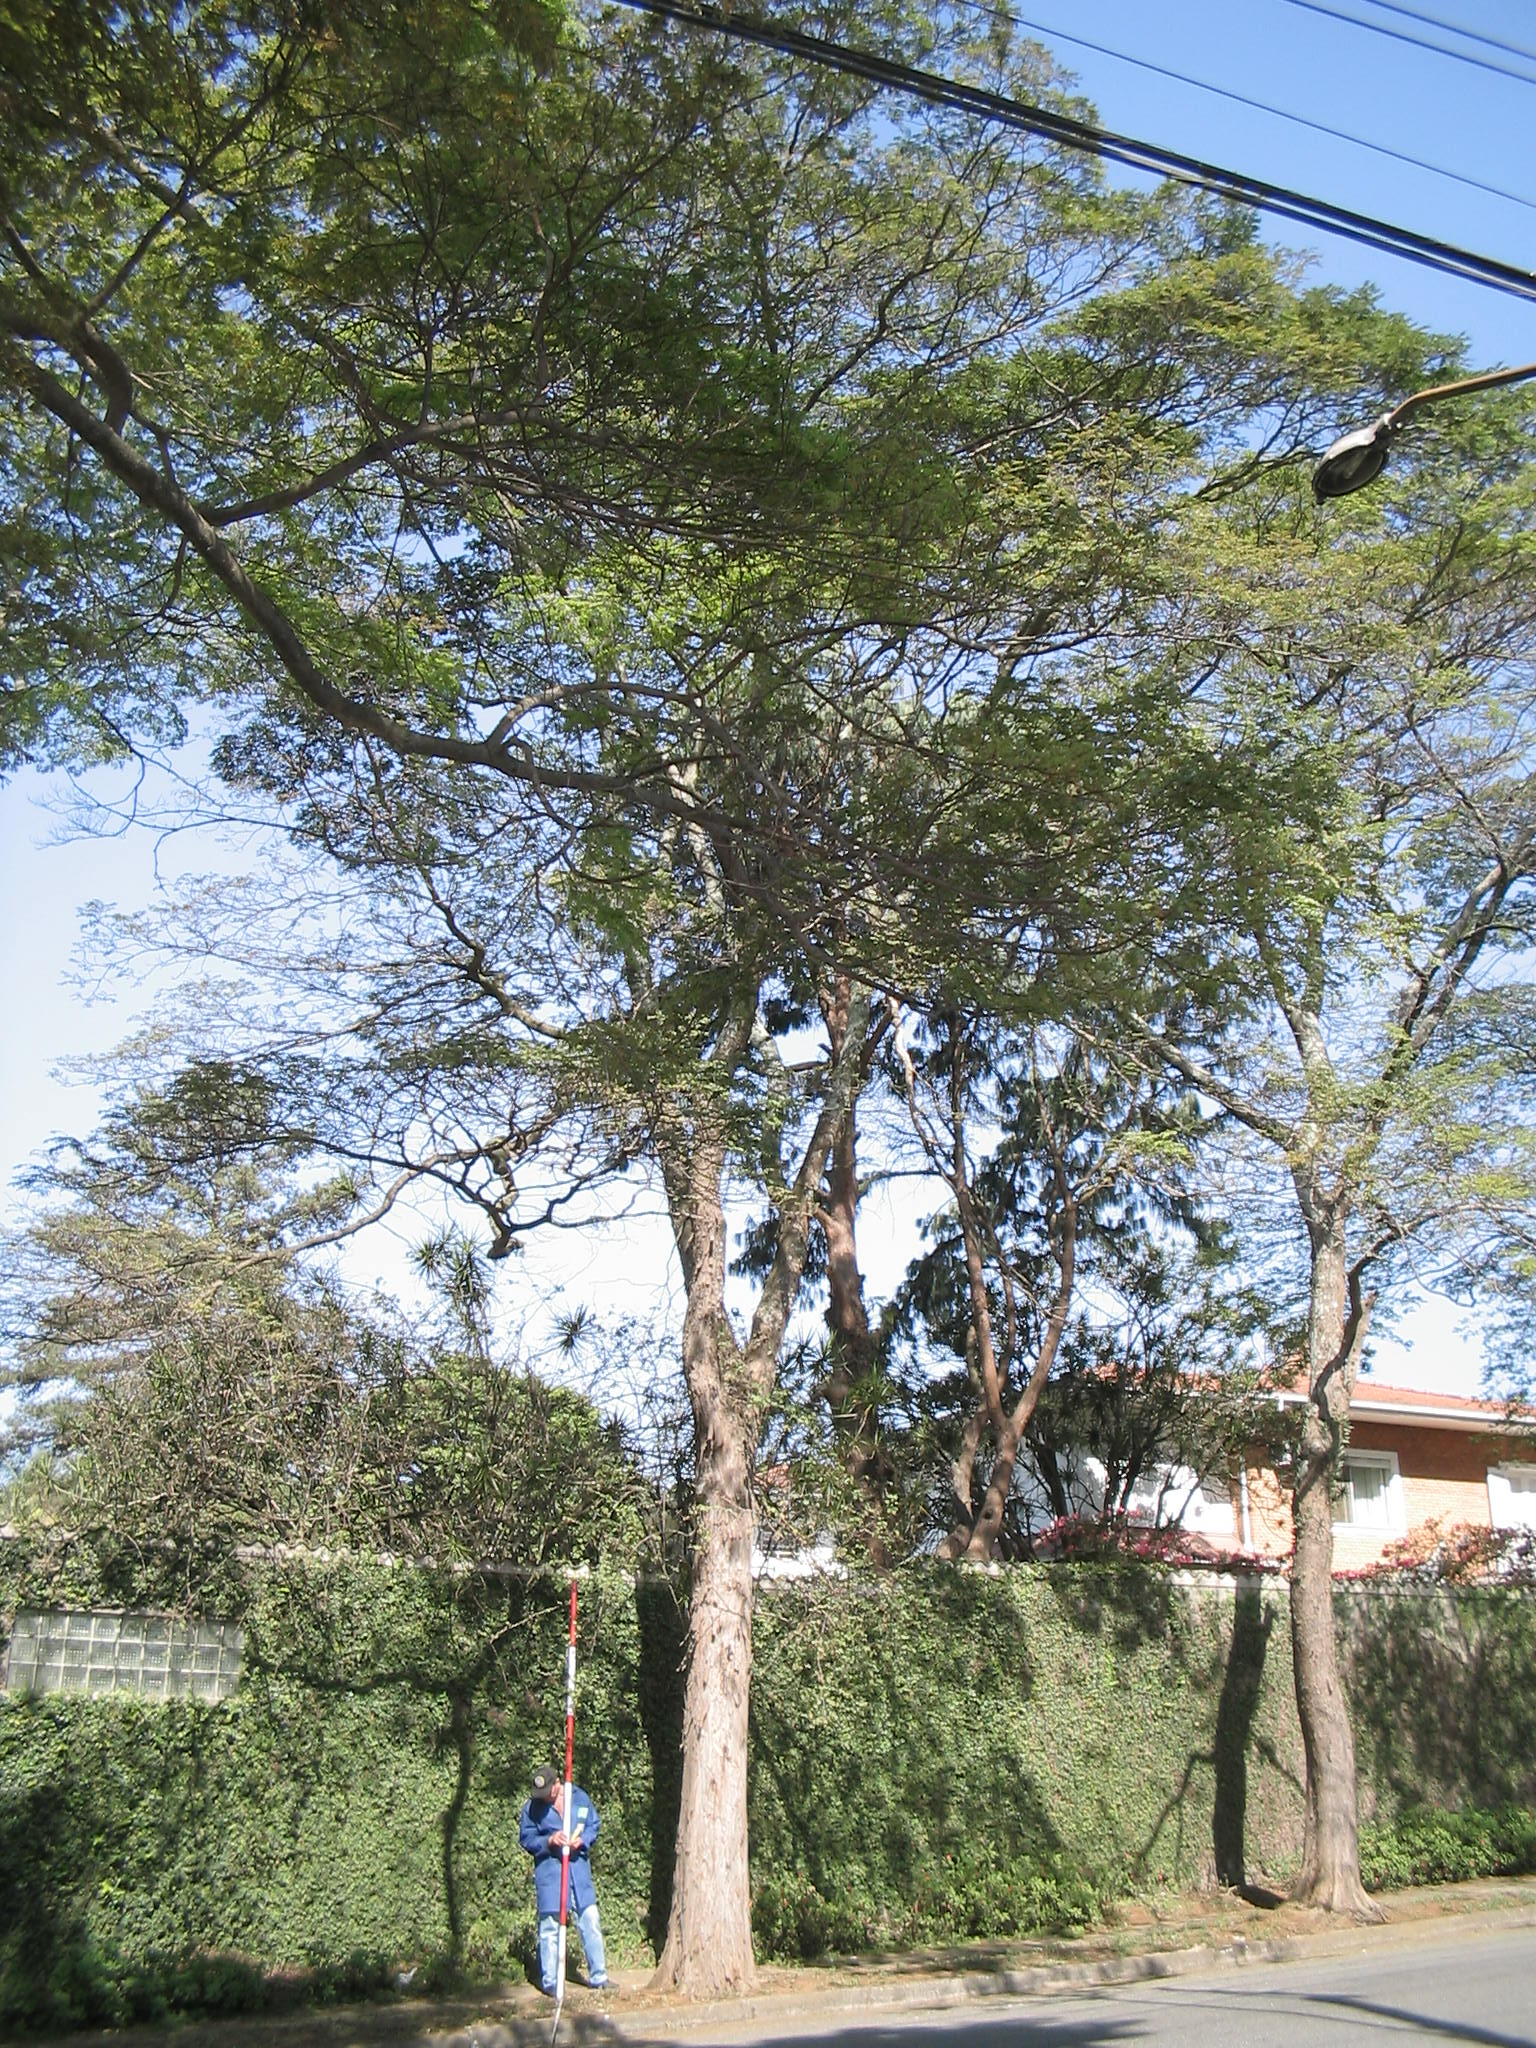crown: (66, 198, 1359, 1248)
stem: (641, 1393, 808, 1988)
stick: (539, 1582, 592, 2003)
tree: (58, 194, 1362, 1993)
